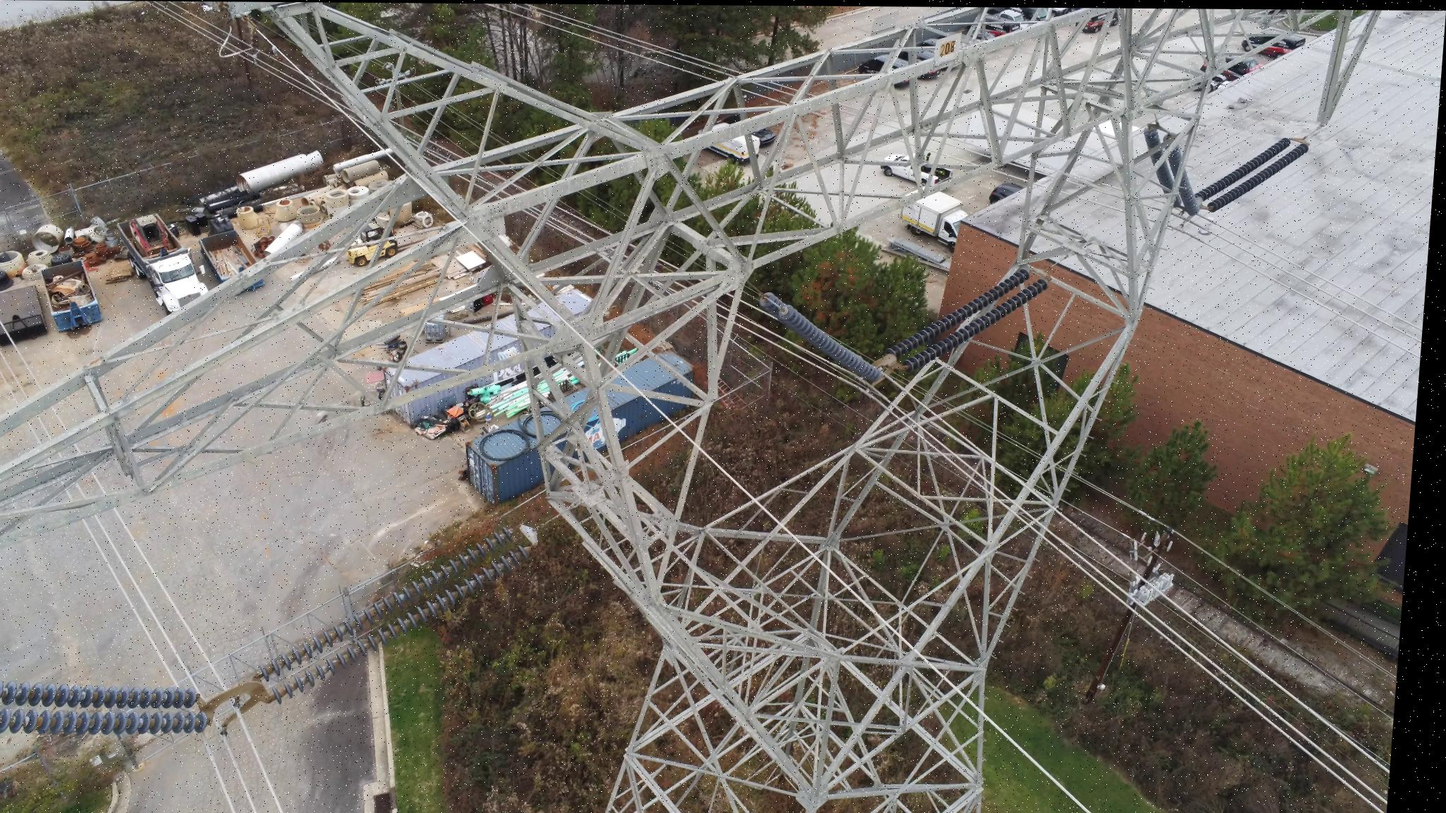tower: (0, 1, 1380, 813)
